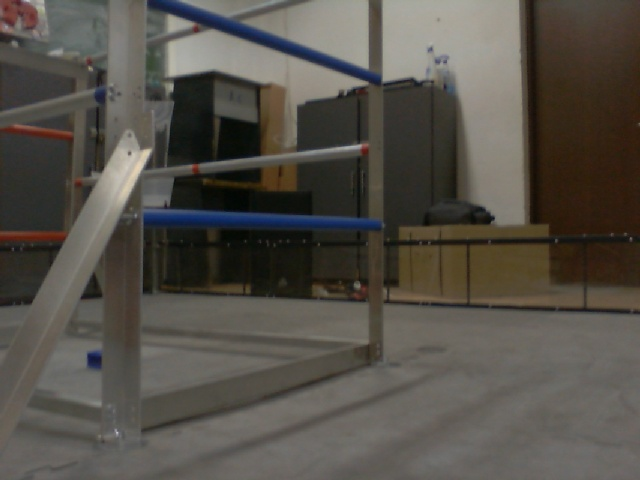BlueSample: (85, 341, 105, 372)
